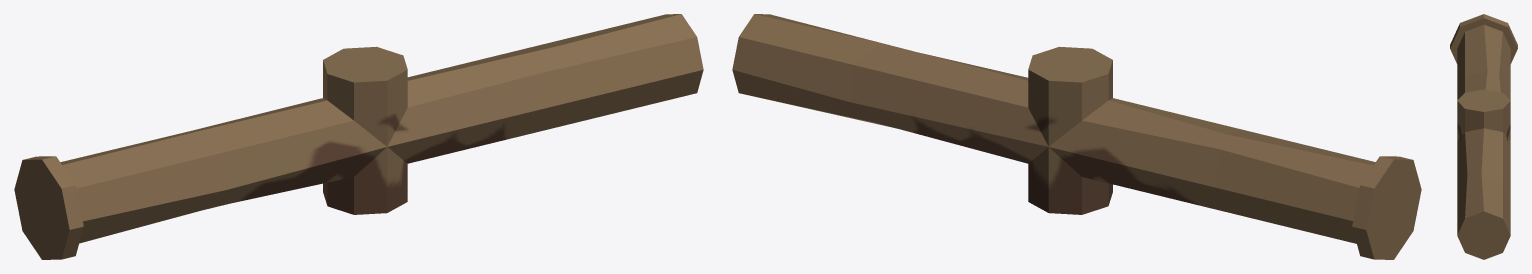
Rendered from SM_Prop_Pipe_01_Cross_01.fbx.
3 views of the same model, side by side, from view 1: azimuth 30°, elevation 25°; view 2: azimuth 150°, elevation 25°; view 3: azimuth 270°, elevation 25° (orthographic). The views are drawn at different scales.
Visible parts, largest first — view 1: SM_Prop_Pipe_01_Cross_01; view 2: SM_Prop_Pipe_01_Cross_01; view 3: SM_Prop_Pipe_01_Cross_01.
Part boxes in pixels (x1=…): SM_Prop_Pipe_01_Cross_01: x1=14, y1=14, x2=703, y2=259; SM_Prop_Pipe_01_Cross_01: x1=732, y1=14, x2=1421, y2=259; SM_Prop_Pipe_01_Cross_01: x1=1450, y1=14, x2=1517, y2=259.
Bounding box in the file's own units: 253 × 50 × 37.9.
